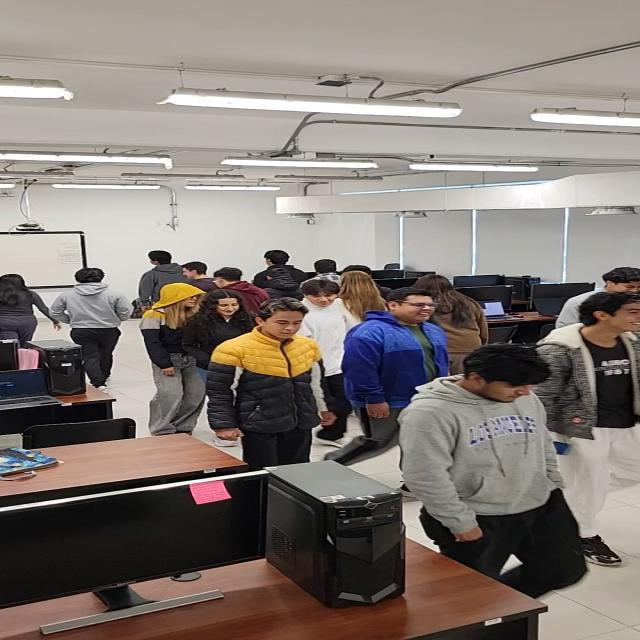Persona: (390, 341, 586, 614), (540, 285, 640, 572), (218, 302, 322, 462), (353, 286, 449, 418), (140, 281, 201, 436), (54, 263, 120, 387), (304, 284, 349, 417), (0, 269, 41, 351), (198, 289, 248, 350)
